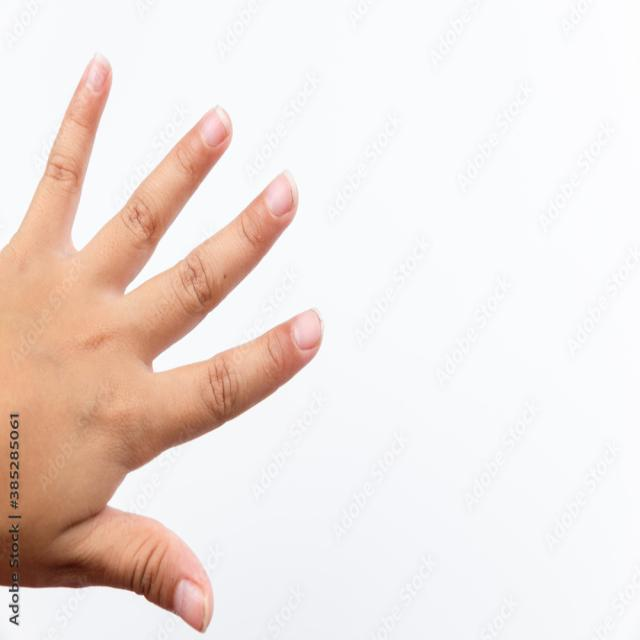Fingernail: (173, 578, 209, 635), (262, 171, 300, 219), (199, 107, 233, 146), (293, 309, 324, 350), (80, 56, 109, 96)
